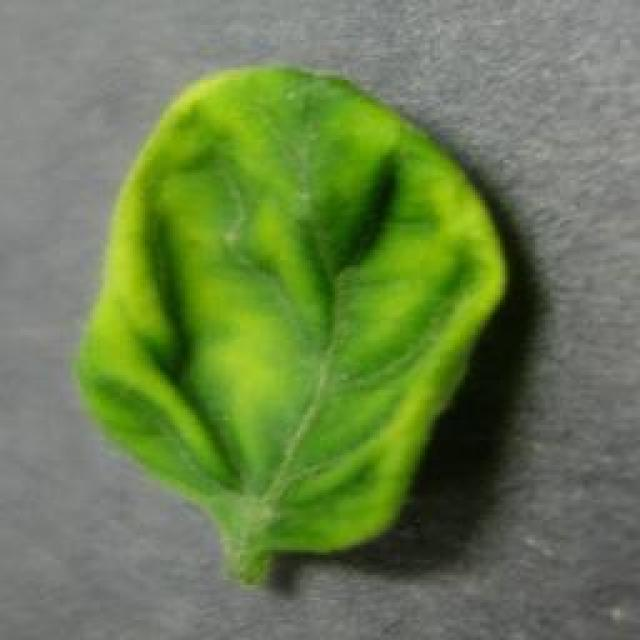Tomato yellow virus leaf: (73, 60, 515, 555)
